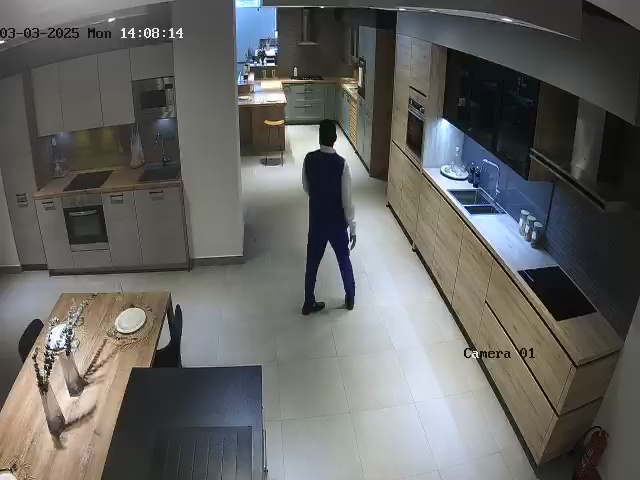employee: (301, 119, 357, 316)
